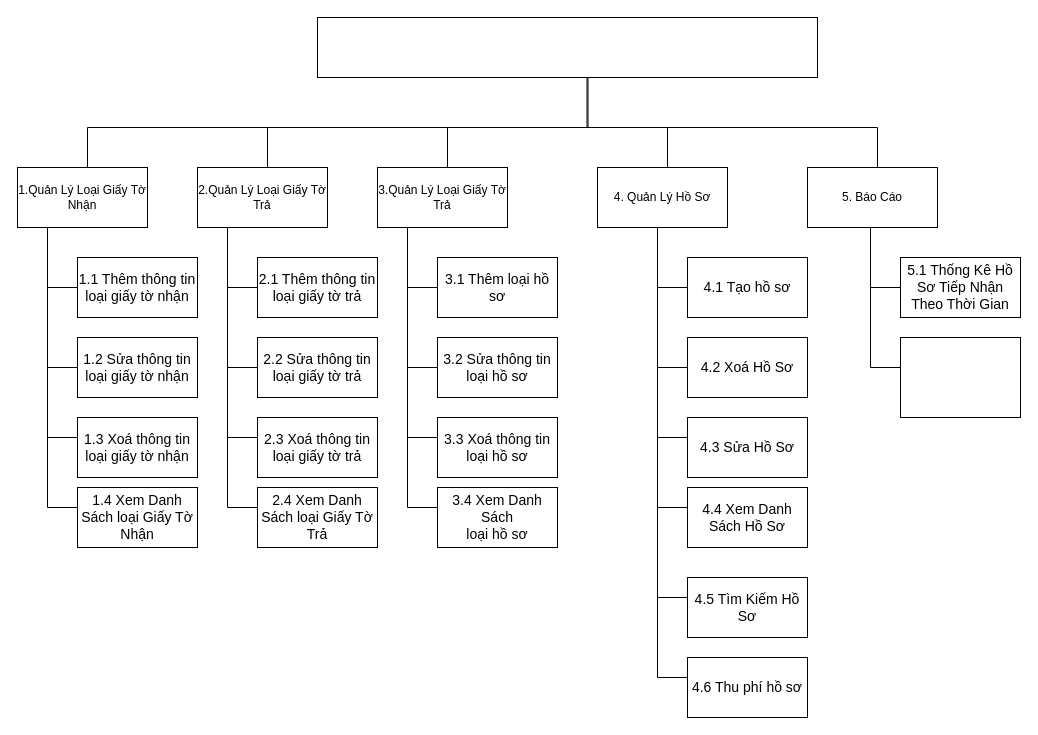
Some shapes in this 1038 by 735 pixel diagram are drawn without their labels. Here are the shapes that lost their labels. From the top down, the centre of each, then its label:
At [567,47]: "Phần mềm hỗi trợ bộ phận một cửa tiếp nhận, xử lý hồ sơ của công dân".
At [960,377]: "5.2 Thống Kê Số Lượng Hồ Sơ THeo Loại Hồ Sơ".
